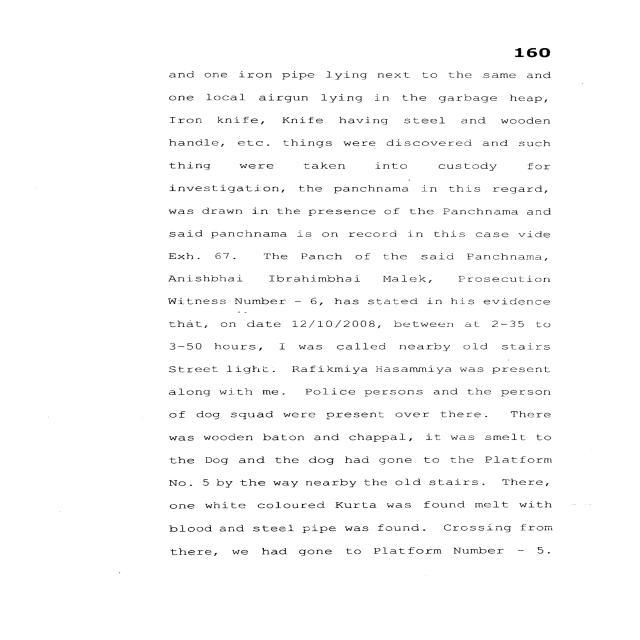page-number: (433, 1, 633, 64)
